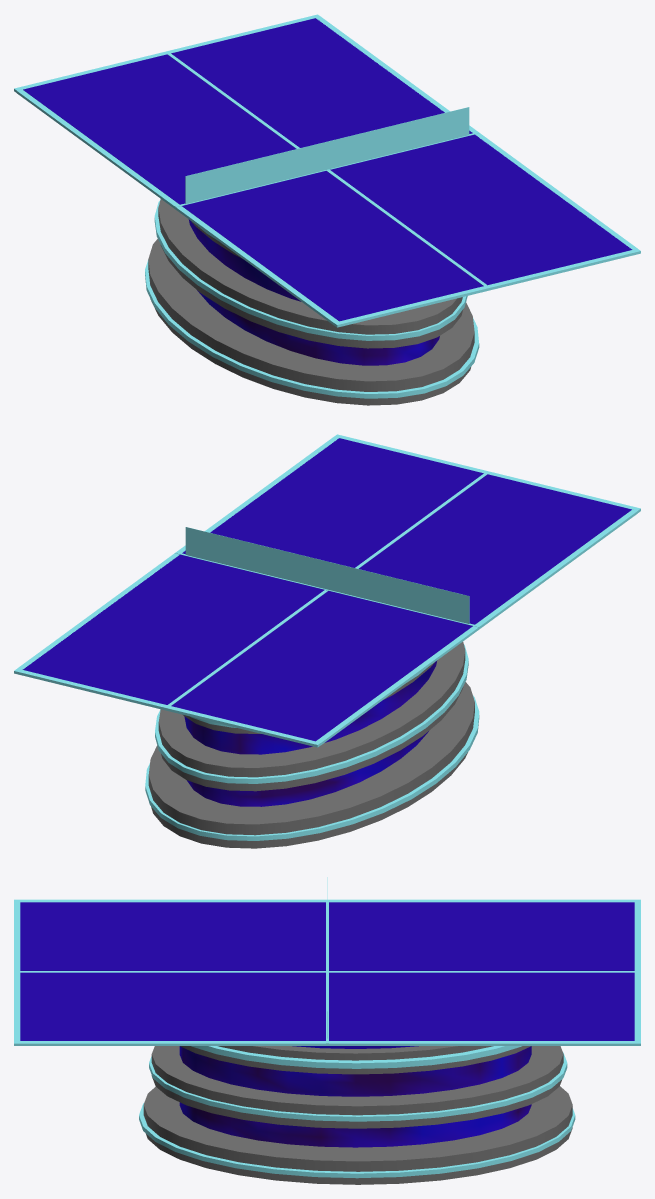
File: ping_pong_table.gltf
3 views of the same model, one above another, from view 1: azimuth 30°, elevation 25°; view 2: azimuth 150°, elevation 25°; view 3: azimuth 270°, elevation 25° (orthographic). The views are drawn at different scales.
Visible parts, largest first — view 1: Object_33, Object_31, Object_19, Object_21, Object_5, Object_3, Object_25, Object_7, Object_23, Object_11, Object_17, Object_15 (+1 smaller); view 2: Object_33, Object_31, Object_19, Object_21, Object_5, Object_3, Object_25, Object_23, Object_7, Object_13, Object_17, Object_15 (+1 smaller); view 3: Object_31, Object_33, Object_19, Object_3, Object_21, Object_29, Object_25, Object_23, Object_17, Object_27, Object_7, Object_15 (+2 smaller).
Part boxes in pixels (<box>): Object_33: <box>23,54,483,321</box>; Object_31: <box>171,18,632,285</box>; Object_19: <box>148,239,474,405</box>; Object_21: <box>158,199,463,348</box>; Object_5: <box>185,107,469,204</box>; Object_3: <box>188,219,439,365</box>; Object_25: <box>145,260,479,398</box>; Object_7: <box>17,89,338,325</box>; Object_23: <box>154,200,467,340</box>; Object_11: <box>334,248,640,327</box>; Object_17: <box>316,17,637,249</box>; Object_15: <box>168,53,486,285</box>; Object_33: <box>171,474,631,741</box>; Object_31: <box>22,438,483,704</box>; Object_19: <box>148,682,474,848</box>; Object_21: <box>158,642,465,791</box>; Object_5: <box>185,527,469,623</box>; Object_3: <box>184,660,437,806</box>; Object_25: <box>145,695,479,840</box>; Object_23: <box>155,644,468,783</box>; Object_7: <box>316,509,637,744</box>; Object_13: <box>14,668,320,747</box>; Object_17: <box>17,437,338,669</box>; Object_15: <box>167,473,487,705</box>; Object_31: <box>20,972,634,1040</box>; Object_33: <box>20,902,634,970</box>; Object_19: <box>143,1086,572,1184</box>; Object_3: <box>179,1046,531,1147</box>; Object_21: <box>151,1046,563,1128</box>; Object_29: <box>180,1046,530,1074</box>; Object_25: <box>139,1103,575,1178</box>; Object_23: <box>149,1052,567,1121</box>; Object_17: <box>20,1041,634,1045</box>; Object_27: <box>191,1046,521,1068</box>; Object_7: <box>20,899,634,902</box>; Object_15: <box>20,971,634,972</box>.
Size of the model in its own units: 1.72 by 1.02 by 3.16.
